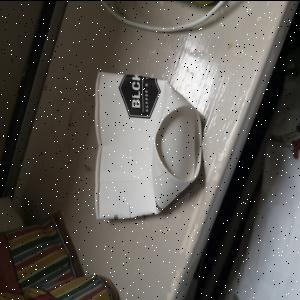Cup: (94, 69, 204, 223)
